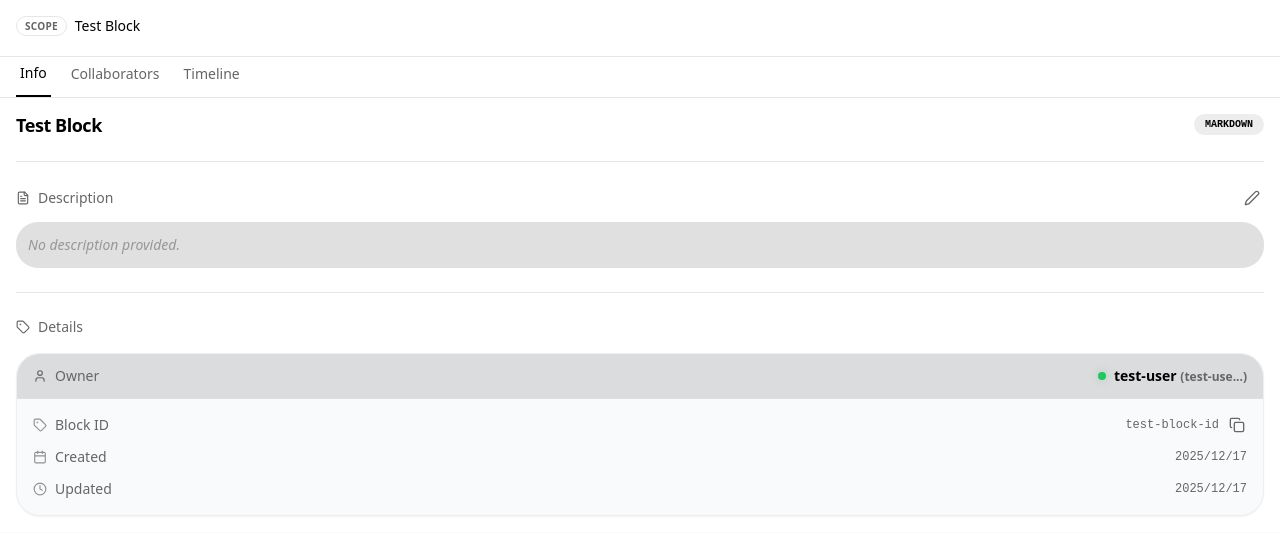
Test: ContextPanel › should show placeholder when no events exist
Use findByRole for better precision
Click the tab "Timeline". click: {"x": 212, "y": 77}
box: [180,58,244,96]
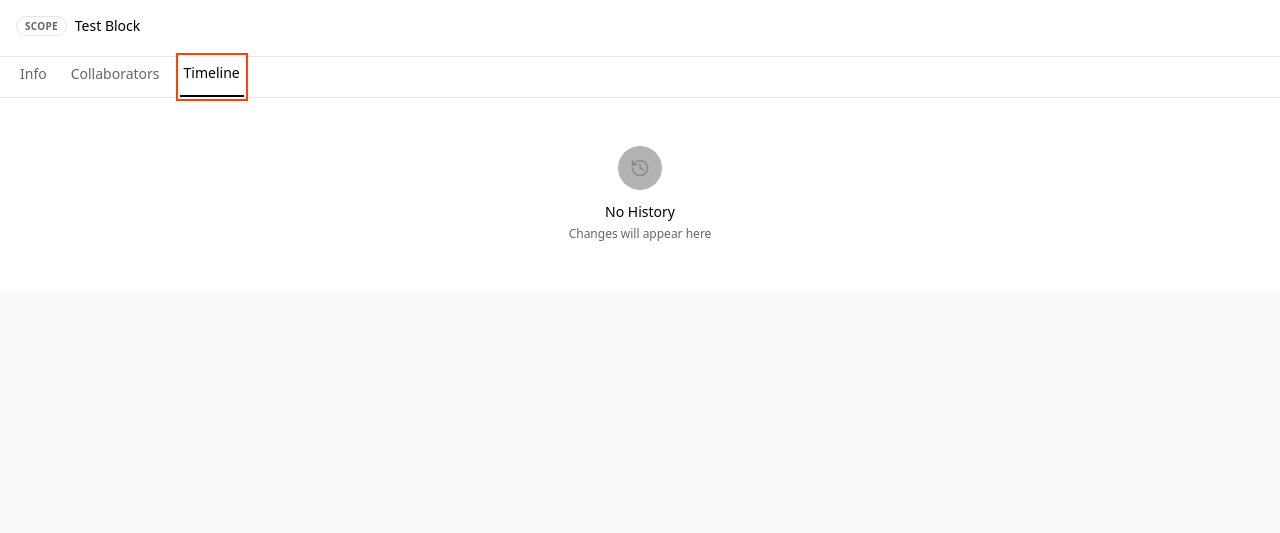
Now the text "No History" is shown, box [605,202,675,222]
